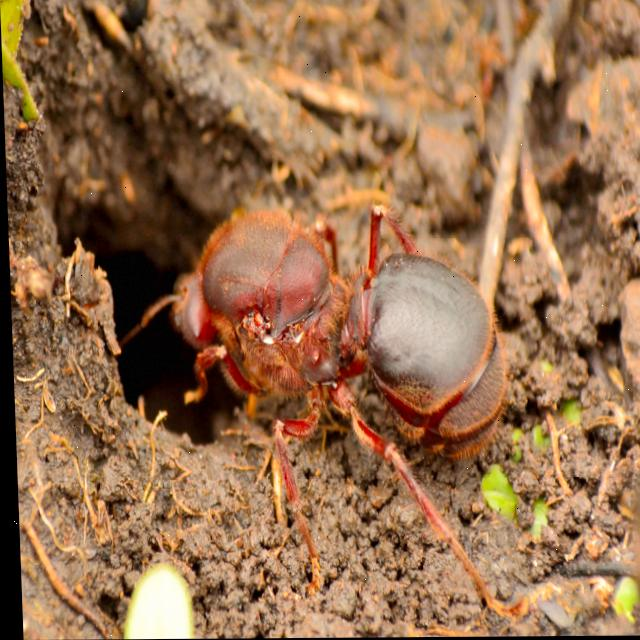Alive-Female-Dealate: (113, 198, 525, 627)
